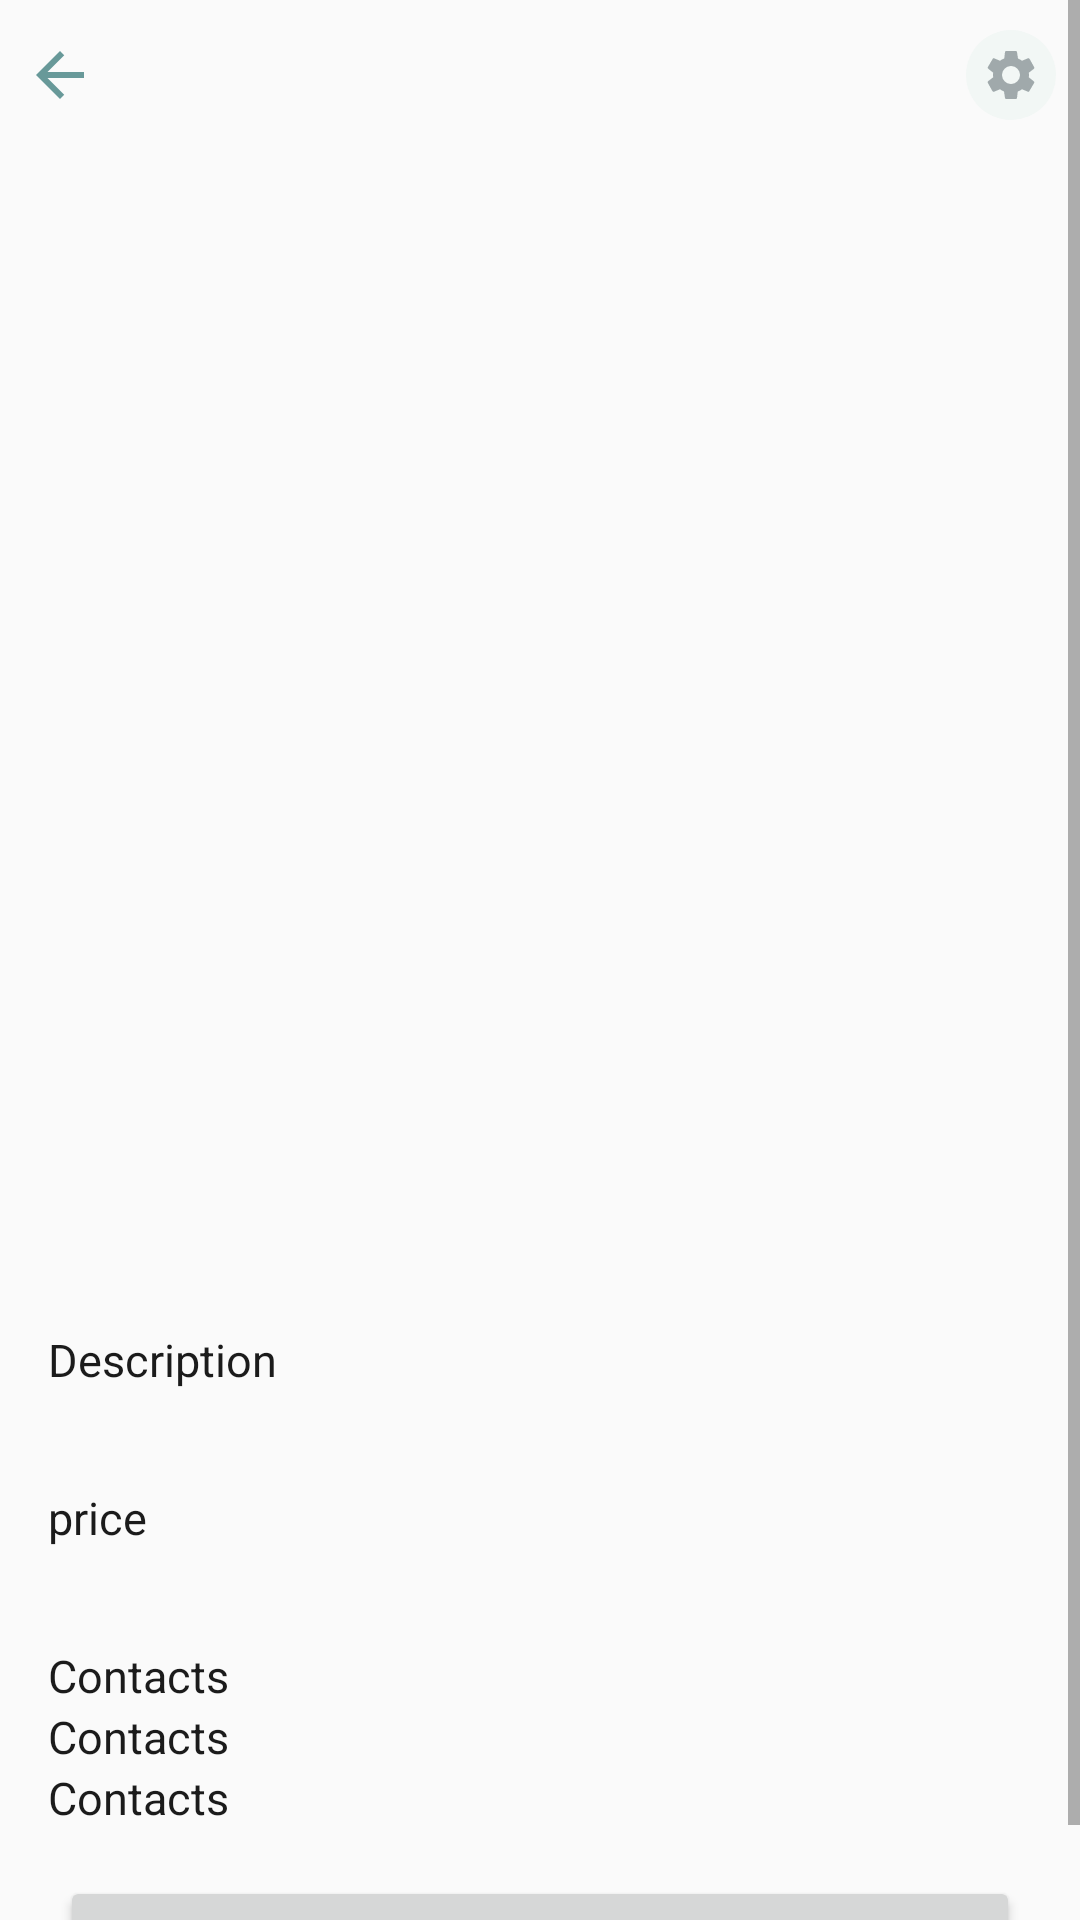

Named icons in this screenshot (1080 x 1920) and their centers, point (x, y):
settings: point (1011, 75)
